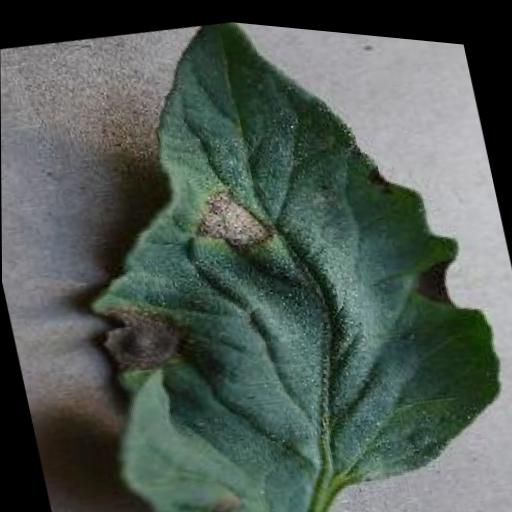Early Blight: (28, 2, 512, 512)
